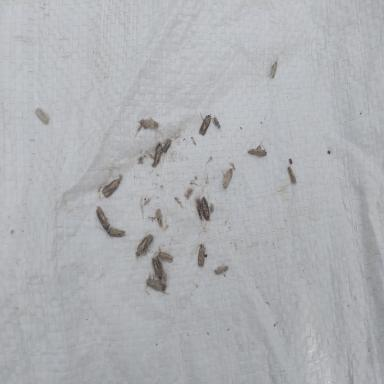pbw: (134, 231, 154, 258), (101, 174, 124, 197), (146, 273, 166, 294), (95, 204, 110, 232), (201, 196, 218, 220), (248, 140, 268, 158), (139, 111, 158, 129), (198, 112, 212, 135), (222, 167, 234, 190), (152, 142, 162, 168), (106, 227, 126, 238), (270, 55, 279, 78), (198, 244, 206, 268), (158, 251, 173, 263), (195, 199, 203, 220), (214, 263, 228, 275), (151, 258, 161, 274), (288, 165, 296, 184), (162, 139, 171, 153)
